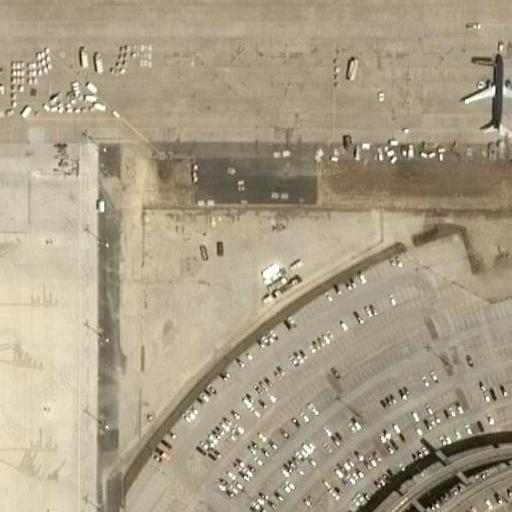Aircraft: (465, 52, 512, 134)
